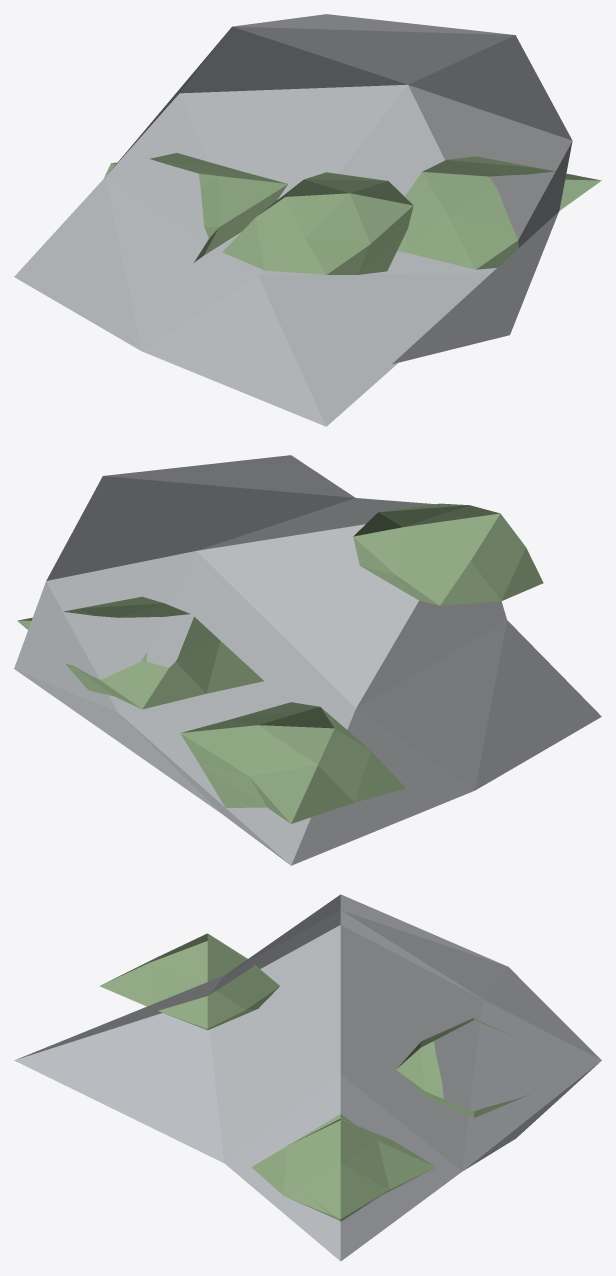
Rendered from moss_rock_v40.glb.
3 renders of one model, top to bottom at view 1: azimuth 30°, elevation 25°; view 2: azimuth 150°, elevation 25°; view 3: azimuth 270°, elevation 25°, orthographic. The views are drawn at different scales.
Parts seen in each view (by area): view 1: lod0; view 2: lod0; view 3: lod0.
Part boxes in pixels (x1=…): lod0: x1=14, y1=14, x2=601, y2=426; lod0: x1=14, y1=455, x2=601, y2=865; lod0: x1=14, y1=894, x2=601, y2=1261.
Size of what is drawn, in the model's own units: 0.6878 by 0.4614 by 0.6694.
